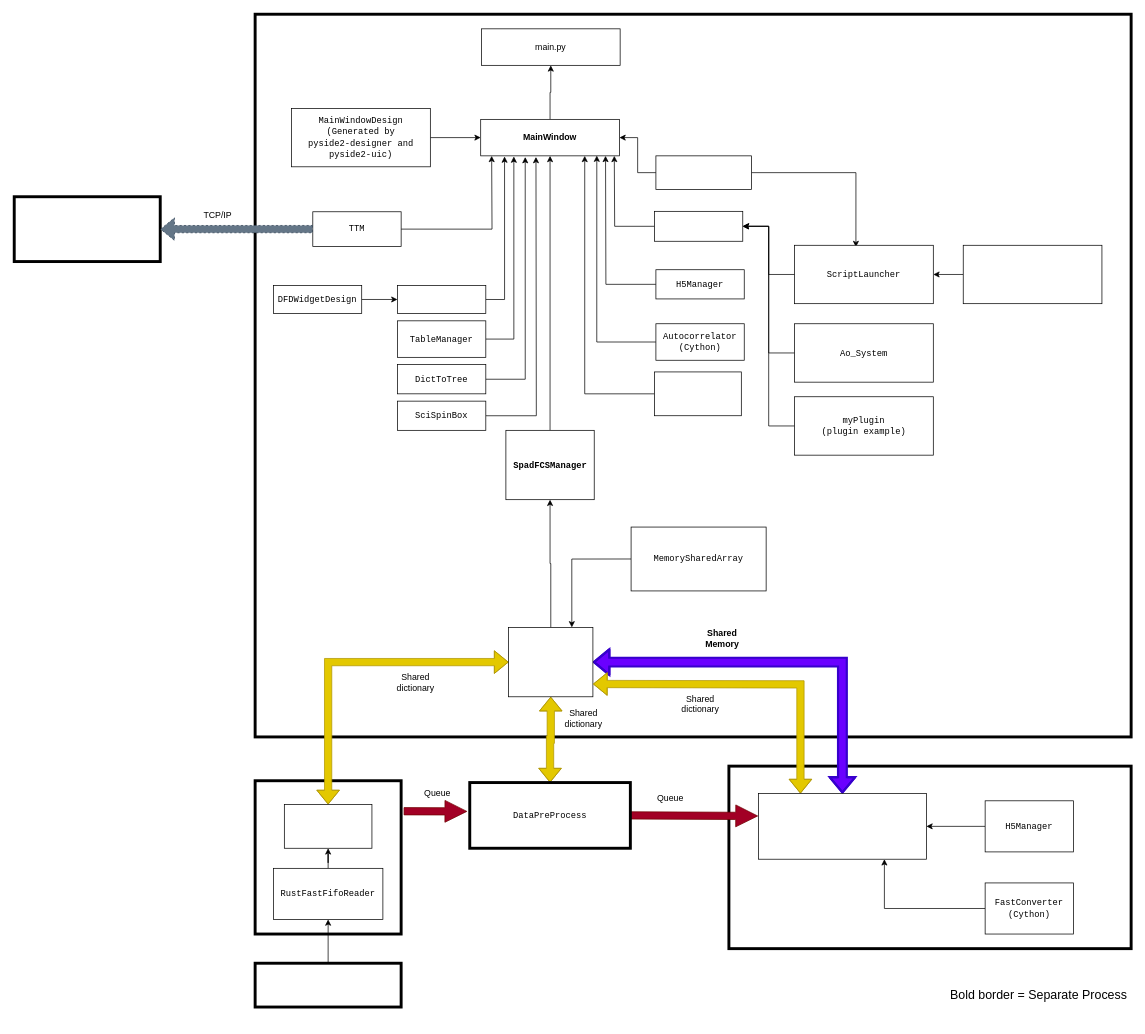
This 1145x1034 diagram has some shape labels left out. Here are the shapes that lost their labels. From the top down, the centre of each, then its label:
At (703,172): "ConsoleWidget".
At (86,229): "TTM data Recv".
At (698,226): "PluginLoader".
At (1032,274): "Scripts in scripts/ folder".
At (441,299): "DFDWidget".
At (697,393): "TimeBinner (Cython)".
At (550,662): "FPGAHandle".
At (328,826): "FpgaHandleProcess".
At (842,826): "AcquisitionLoopProcess".
At (327,984): "nifpga-fast-fifo-recv (Rust)".
